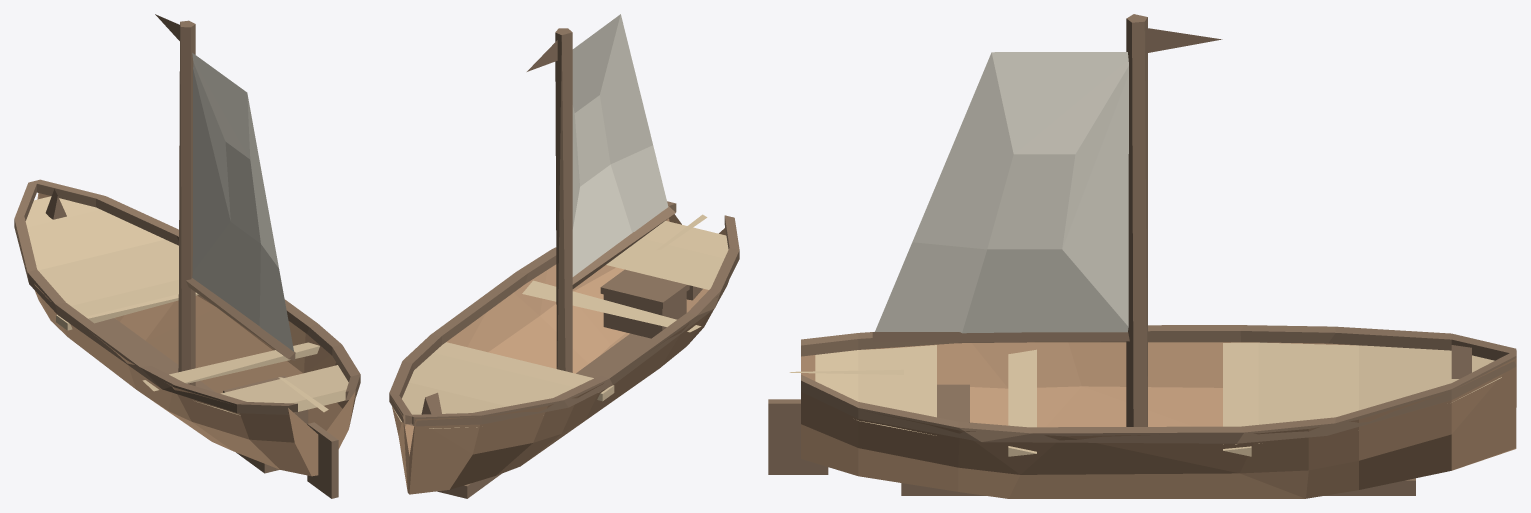
Rendered from 67-Vehiculos_barquita_aurora.glb.
3 views of the same model, side by side, from view 1: azimuth 30°, elevation 25°; view 2: azimuth 150°, elevation 25°; view 3: azimuth 270°, elevation 25° (orthographic). The views are drawn at different scales.
Parts seen in each view (by area): view 1: SM_Barquita_M_Barquita_MaderaOscura, SM_Barquita_M_Barquita_MaderaClara, SM_Barquita_M_Barquita_Lino, SM_Barquita_M_Barquita_Casco; view 2: SM_Barquita_M_Barquita_Casco, SM_Barquita_M_Barquita_MaderaOscura, SM_Barquita_M_Barquita_Lino, SM_Barquita_M_Barquita_MaderaClara, SM_Barquita_M_Barquita_Aurora; view 3: SM_Barquita_M_Barquita_Casco, SM_Barquita_M_Barquita_Lino, SM_Barquita_M_Barquita_MaderaOscura, SM_Barquita_M_Barquita_MaderaClara, SM_Barquita_M_Barquita_Aurora.
Boxes of the visible parts, <box> form: SM_Barquita_M_Barquita_MaderaOscura: <box>14,20,360,498</box>; SM_Barquita_M_Barquita_MaderaClara: <box>25,196,348,415</box>; SM_Barquita_M_Barquita_Lino: <box>192,53,293,351</box>; SM_Barquita_M_Barquita_Casco: <box>24,193,355,476</box>; SM_Barquita_M_Barquita_Casco: <box>392,214,728,494</box>; SM_Barquita_M_Barquita_MaderaOscura: <box>389,28,739,498</box>; SM_Barquita_M_Barquita_Lino: <box>572,14,668,276</box>; SM_Barquita_M_Barquita_MaderaClara: <box>392,214,728,428</box>; SM_Barquita_M_Barquita_Aurora: <box>527,40,686,338</box>; SM_Barquita_M_Barquita_Casco: <box>801,342,1516,498</box>; SM_Barquita_M_Barquita_Lino: <box>875,52,1128,333</box>; SM_Barquita_M_Barquita_MaderaOscura: <box>768,14,1516,495</box>; SM_Barquita_M_Barquita_MaderaClara: <box>789,342,1501,456</box>; SM_Barquita_M_Barquita_Aurora: <box>1146,28,1222,53</box>.
Size of the model in its own units: 1.81 by 3.61 by 5.23.
